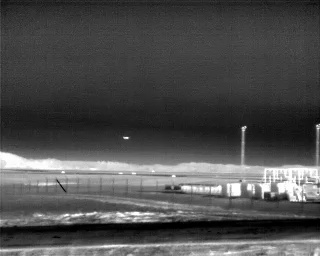AIRPLANE: (121, 134, 131, 142)
